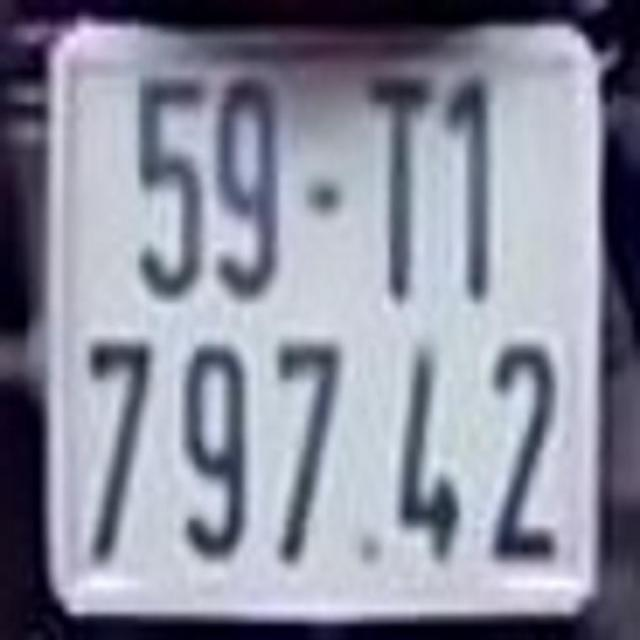1: (446, 75, 501, 304)
2: (489, 343, 568, 555)
4: (384, 339, 467, 560)
5: (130, 74, 203, 304)
7: (84, 340, 160, 564), (274, 342, 346, 568)
9: (174, 344, 253, 557), (211, 81, 281, 290)
T: (368, 74, 435, 298)
